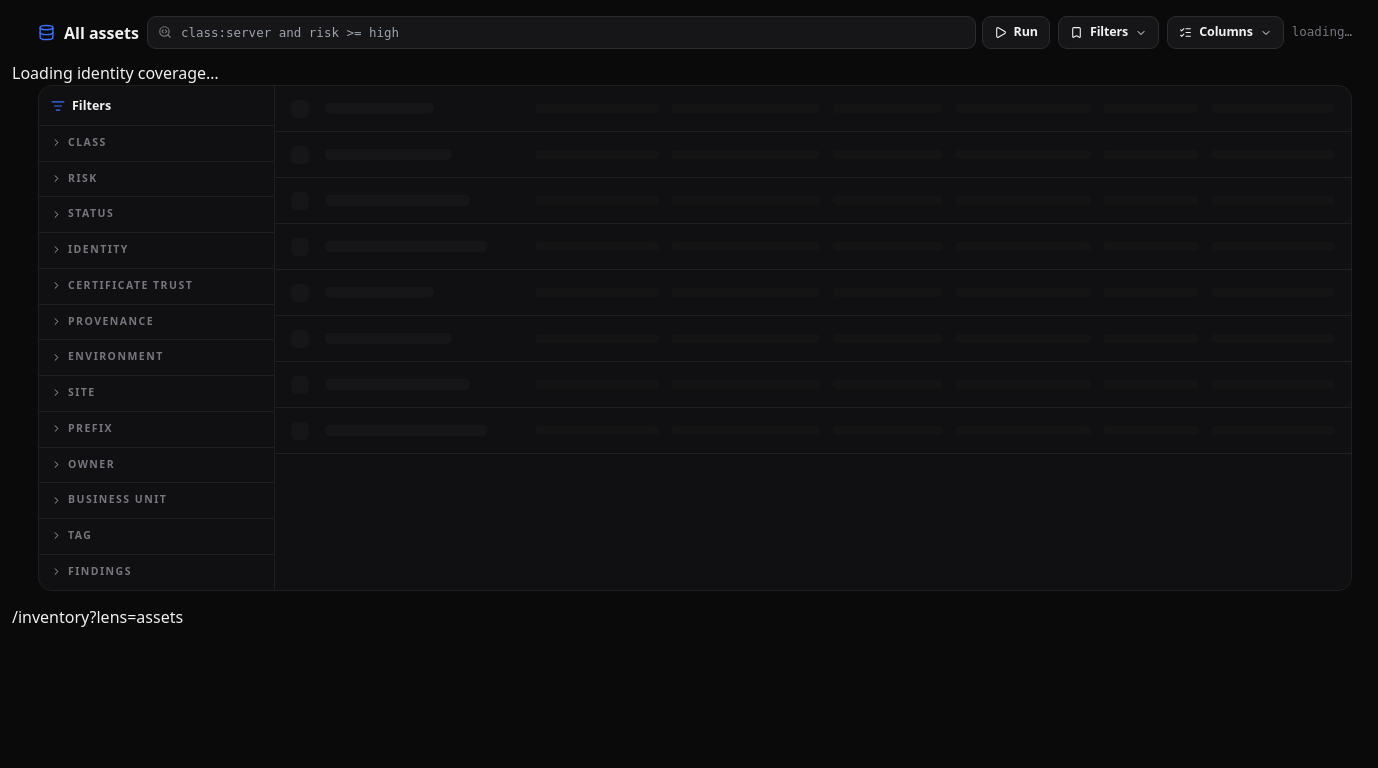
Test: Filters menu on the assets lens › shows a loading line while the list is in flight
This screenshot has width=1378, height=768.
What coordinates should you click on to do the following:
click the button "Filters"
I would click on:
 (1109, 32)
Its box is [1058, 16, 1159, 49].
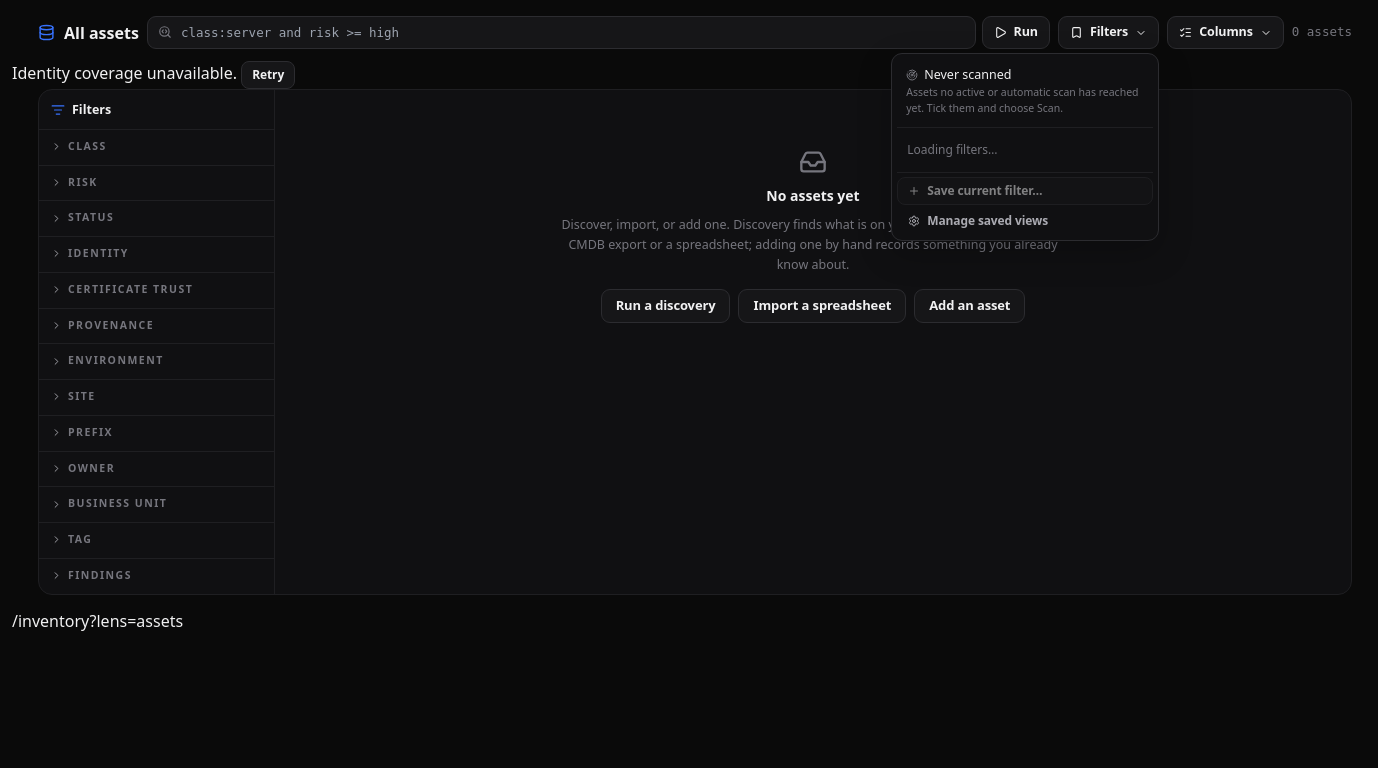
Result: the menu with test id "saved-filters-menu" shows "Loading filters…" at [907, 141, 998, 158]
